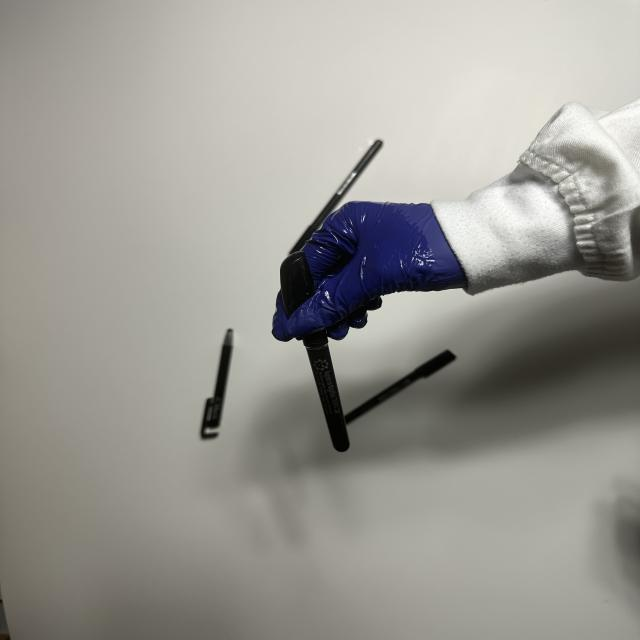gloves_contaminated: (274, 202, 466, 336)
